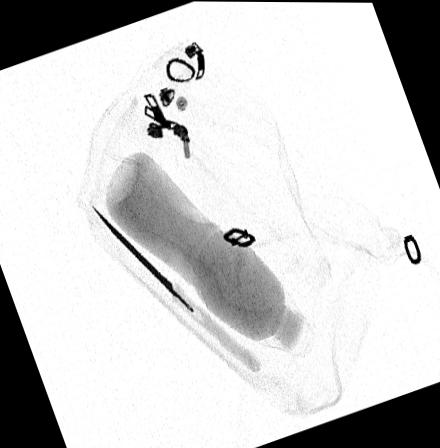Knife: (90, 203, 262, 373)
